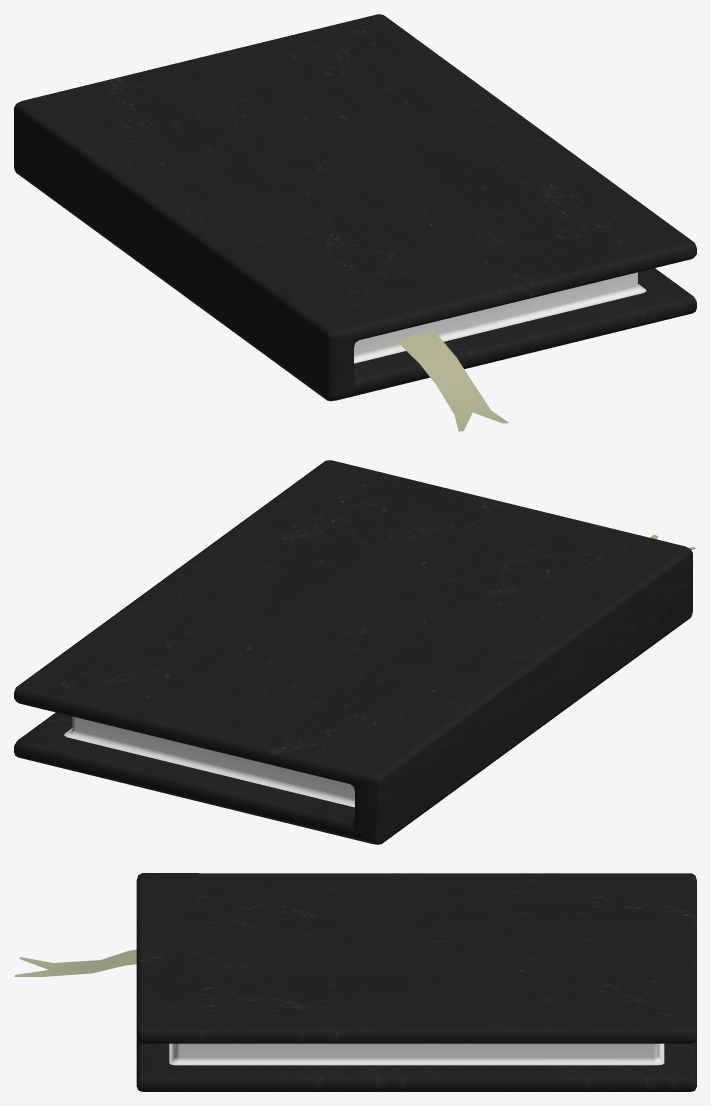
The model's file is book.fbx.
3 views of the same model, one above another, from view 1: azimuth 30°, elevation 25°; view 2: azimuth 150°, elevation 25°; view 3: azimuth 270°, elevation 25° (orthographic). The views are drawn at different scales.
Parts seen in each view (by area): view 1: pCube19; view 2: pCube19; view 3: pCube19.
Part boxes in pixels (x1,y1,x2,y2): pCube19: (14, 14, 696, 431); pCube19: (14, 460, 696, 844); pCube19: (14, 873, 696, 1091).
Bounding box in the file's own units: 50.53 × 9.31 × 91.28.
